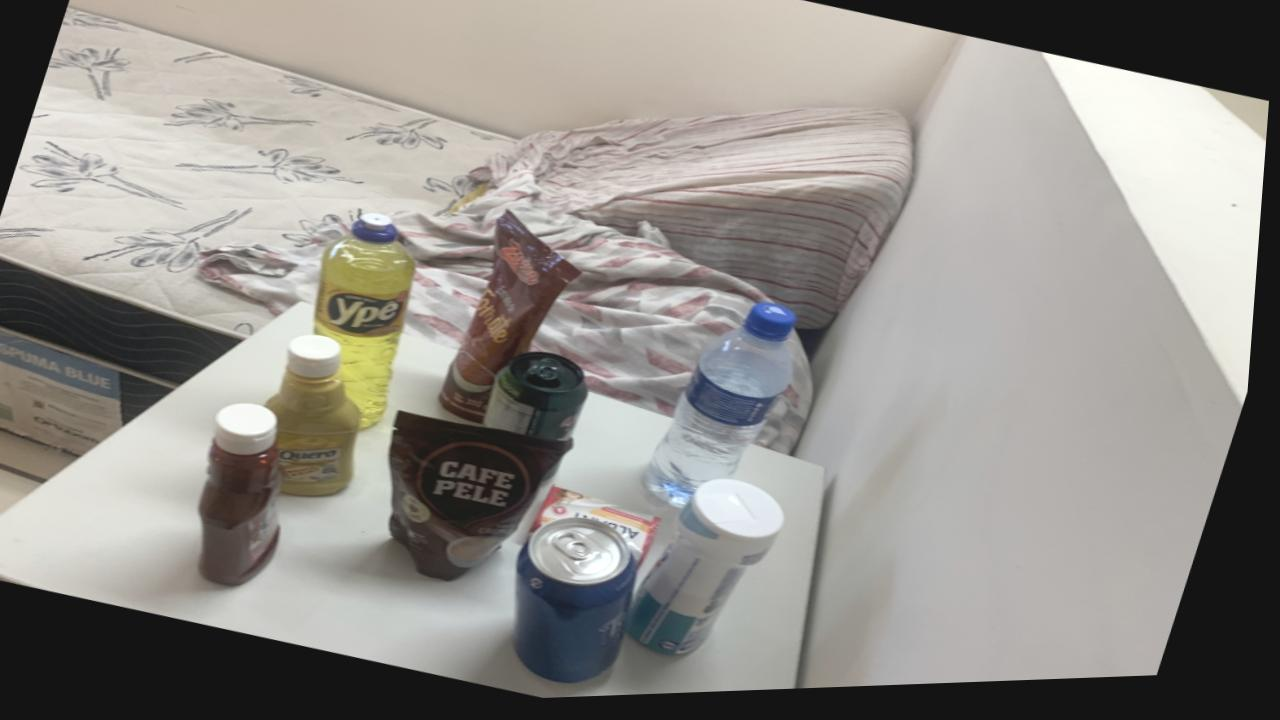Cleaner-Cleanup_Items: (636, 484, 793, 662)
Coffee-Pantry_Items: (396, 414, 580, 585)
Detergent-Cleanup_Items: (319, 216, 420, 430)
Guarana_Can-Drinks: (491, 356, 595, 445)
Ketchup-Pantry_Items: (206, 405, 291, 588)
Mustard-Pantry_Items: (272, 337, 367, 499)
Soap-Cleanup_Items: (539, 491, 669, 571)
Tomato_Sauce-Pantry_Items: (446, 215, 585, 427)
Tonic-Drinks: (523, 522, 646, 688)
Water_Bottle-Drinks: (652, 308, 802, 512)
